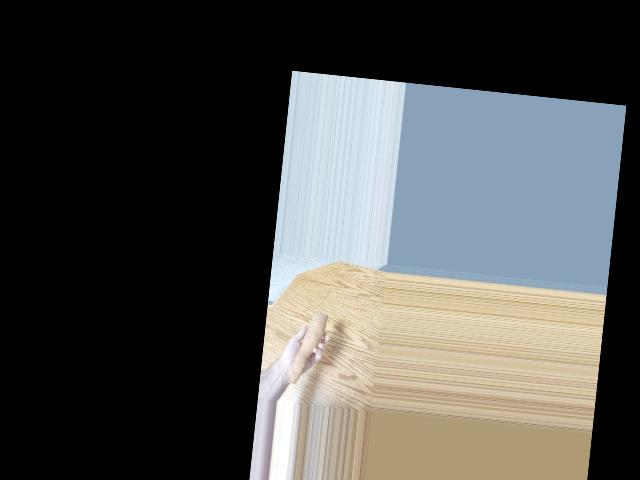sweet_potato: (286, 309, 330, 385)
